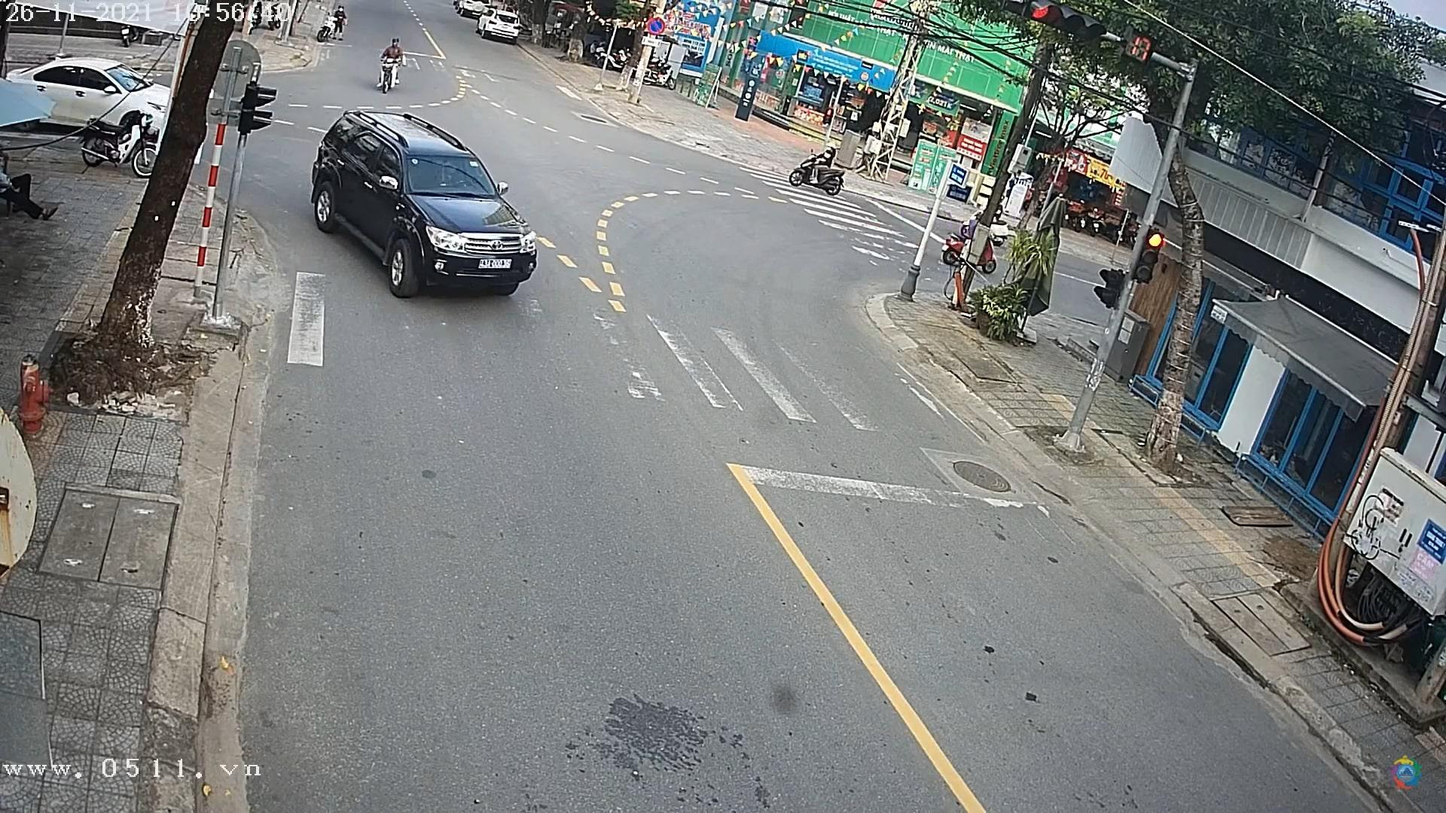car: (304, 108, 544, 300), (9, 61, 168, 132)
motorbike: (789, 153, 849, 194), (375, 51, 399, 92)
